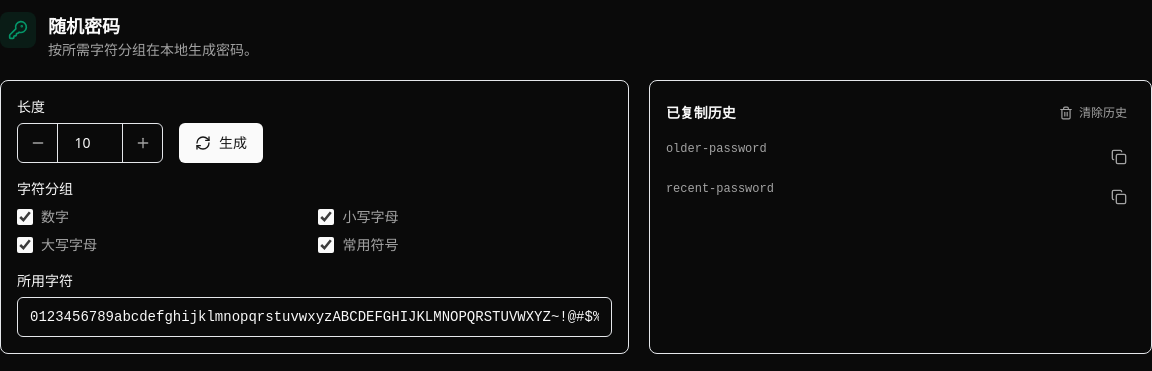
it: RandomPasswordTool › copies a password from copied history and moves it to the top
Click the button named "复制密码" in the row of "recent-password" at [1119, 197], box [1103,181,1135,213]
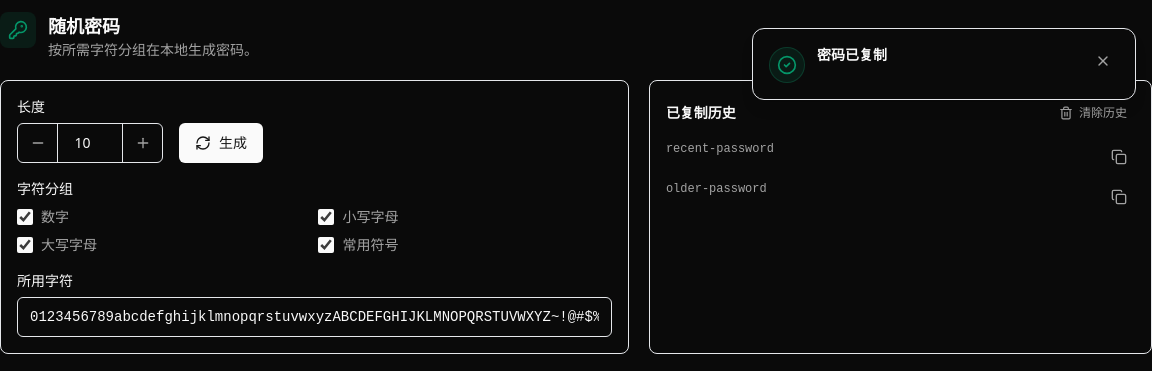
Now the list items read "recent-password", "older-password", in this order, box [666,141,1135,173]; [666,181,1135,213]
